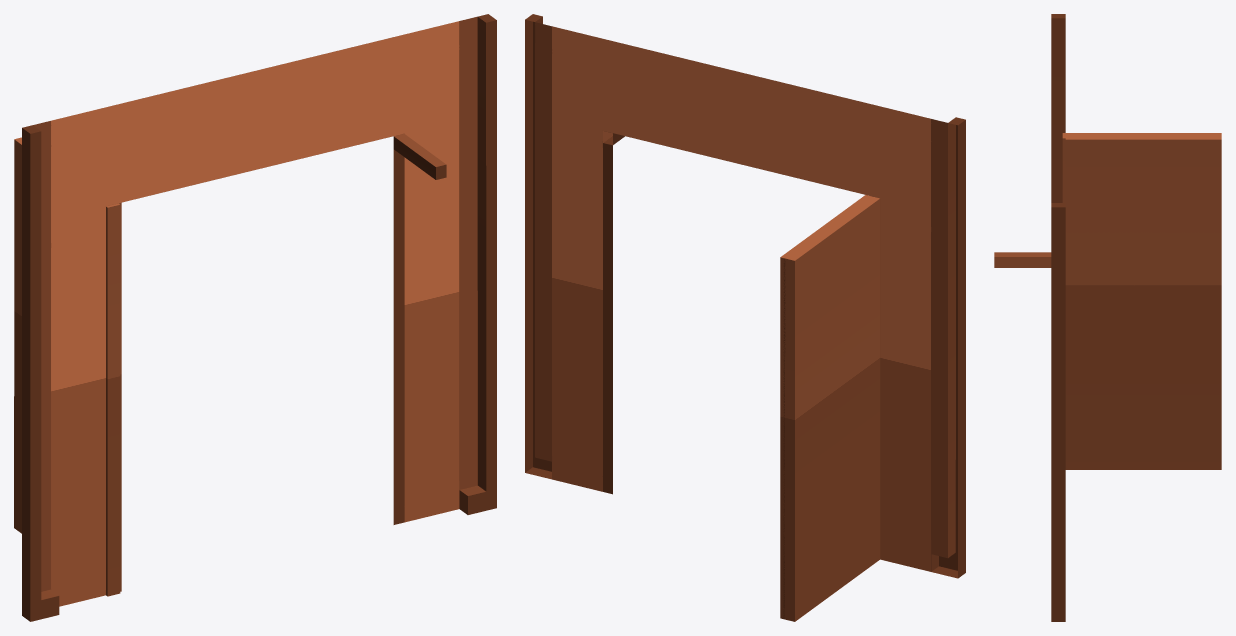
The model's file is wall-door.fbx.
The picture shows the model from 3 angles, left to right: view 1: azimuth 30°, elevation 25°; view 2: azimuth 150°, elevation 25°; view 3: azimuth 270°, elevation 25°; orthographic projection. The views are drawn at different scales.
Parts seen in each view (by area): view 1: Plane; view 2: Plane; view 3: Plane.
Boxes of the visible parts, box(x1,y1,x2,y2) form: Plane: box(14, 14, 496, 621); Plane: box(525, 14, 965, 621); Plane: box(994, 14, 1221, 621).
Bounding box in the file's own units: 768 × 768 × 382.
Materials: 1 (1 with a texture image).
